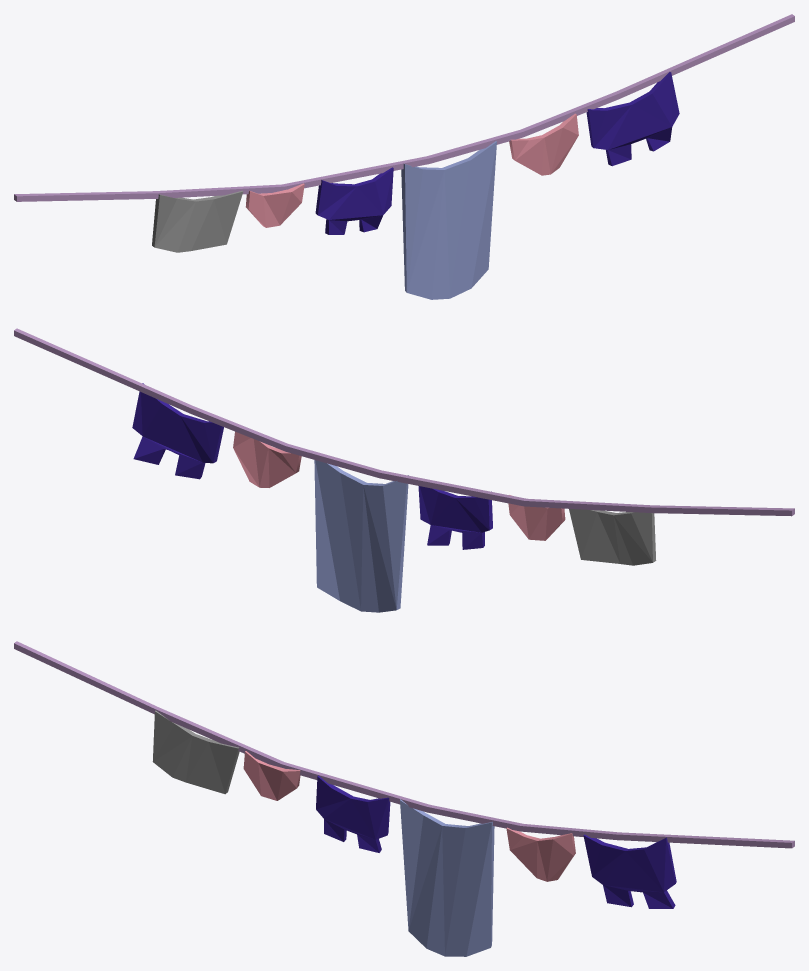
File: Wäscheleine.FBX
3 views of the same model, one above another, from view 1: azimuth 30°, elevation 25°; view 2: azimuth 150°, elevation 25°; view 3: azimuth 330°, elevation 25° (orthographic).
Parts seen in each view (by area): view 1: Wäscheleine; view 2: Wäscheleine; view 3: Wäscheleine.
Part boxes in pixels (x1=…): Wäscheleine: x1=14, y1=14, x2=794, y2=299; Wäscheleine: x1=14, y1=328, x2=794, y2=612; Wäscheleine: x1=14, y1=641, x2=794, y2=956.
Bounding box in the file's own units: 237 × 60.26 × 4.89.
